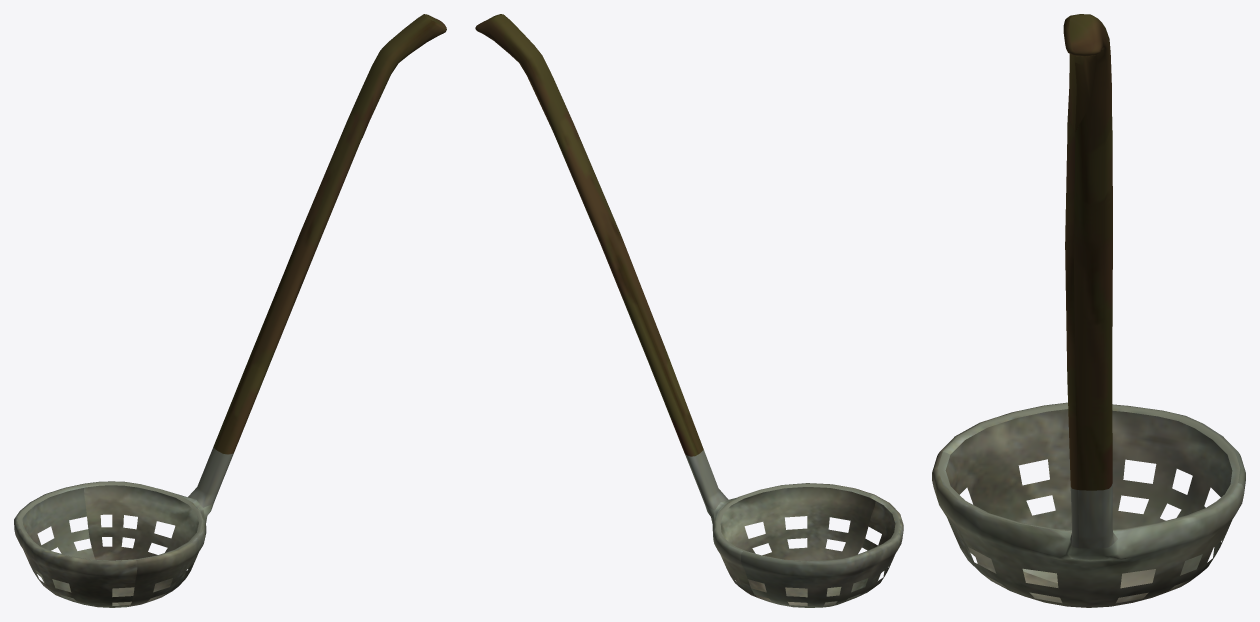
File: M_LouchePecheAavecDesTrous.fbx
The picture shows the model from 3 angles, left to right: view 1: azimuth 30°, elevation 25°; view 2: azimuth 150°, elevation 25°; view 3: azimuth 270°, elevation 25°; orthographic projection. The views are drawn at different scales.
Visible parts, largest first — view 1: objets_0001:louche1; view 2: objets_0001:louche1; view 3: objets_0001:louche1.
Boxes of the visible parts, <box> form: objets_0001:louche1: <box>14,14,446,607</box>; objets_0001:louche1: <box>475,14,903,607</box>; objets_0001:louche1: <box>932,14,1245,607</box>.
Bounding box in the file's own units: 24.69 × 28.66 × 9.91.
